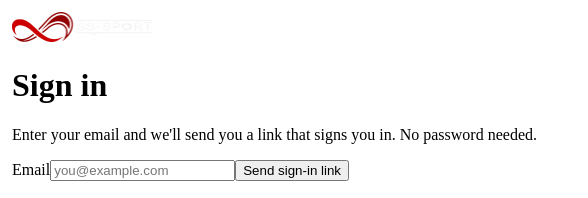
Test: SignInPanel (W-1, P-5 web): asking for a link › sends the trimmed email and then says to check the inbox
Type "  scout@club.com " into the field labelled "Email" at point(143, 170), box [50,160,235,181]
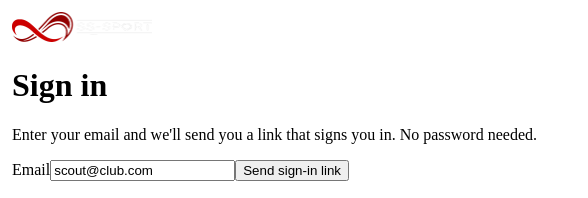
Click the button "Send sign-in link" at point(292, 170), box [235,160,349,181]
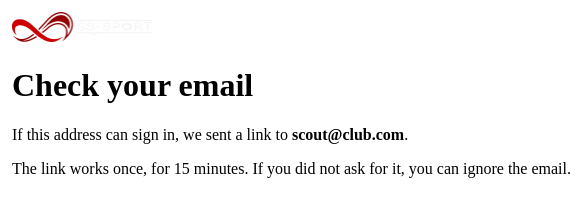
Check: the heading "Check your email" is shown, box [12,67,253,103]
Check: the text "scout@club.com" is shown, box [292,126,404,143]
Check: the text "works once, for 15 minutes" is shown, box [12,160,571,177]
